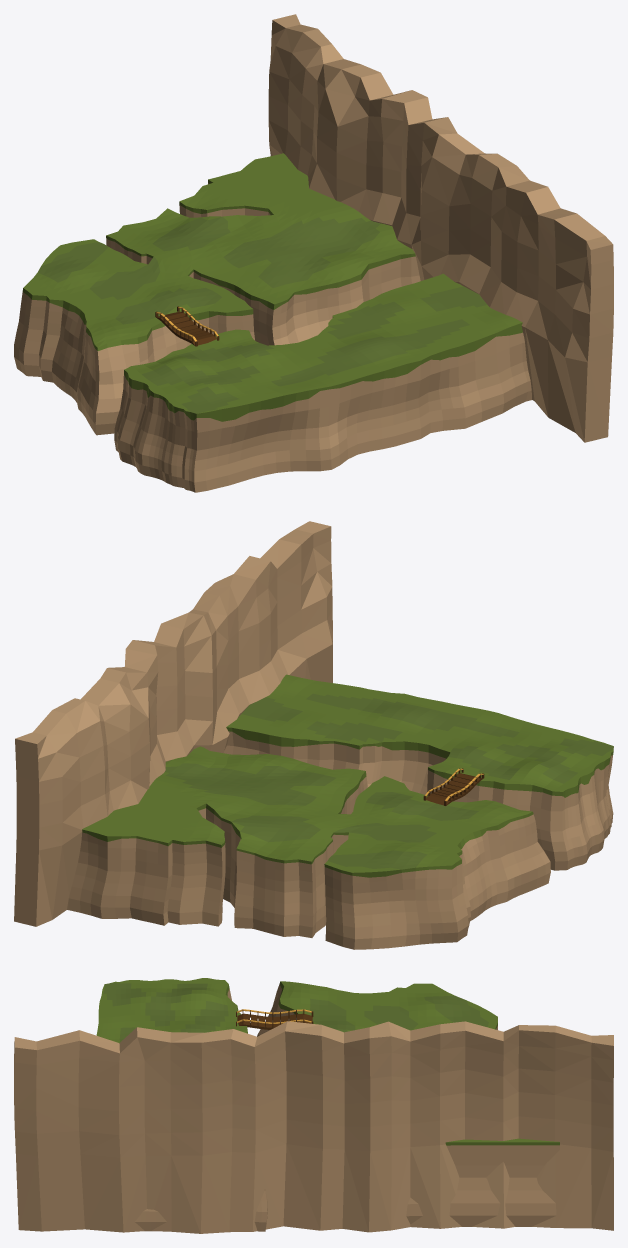
The model's file is NATURE_level.fbx.
The picture shows the model from 3 angles, top to bottom: view 1: azimuth 30°, elevation 25°; view 2: azimuth 150°, elevation 25°; view 3: azimuth 270°, elevation 25°; orthographic projection. The views are drawn at different scales.
Parts seen in each view (by area): view 1: Plane, Plane.002, Plane.001, Cube; view 2: Plane.001, Plane, Plane.002, Cube; view 3: Plane, Plane.001, Plane.002, Cube.
Boxes of the visible parts, x1,y1,x2,y2 form: Plane: (268, 14, 613, 442); Plane.002: (114, 273, 531, 492); Plane.001: (14, 153, 420, 435); Cube: (155, 306, 219, 346); Plane.001: (67, 746, 550, 949); Plane: (14, 521, 332, 926); Plane.002: (224, 674, 613, 870); Cube: (423, 768, 484, 805); Plane: (14, 1021, 613, 1233); Plane.001: (257, 981, 559, 1226); Plane.002: (96, 978, 267, 1231); Cube: (236, 1009, 313, 1029).
Size of the model in its own units: 3400 by 1680 by 4652.
